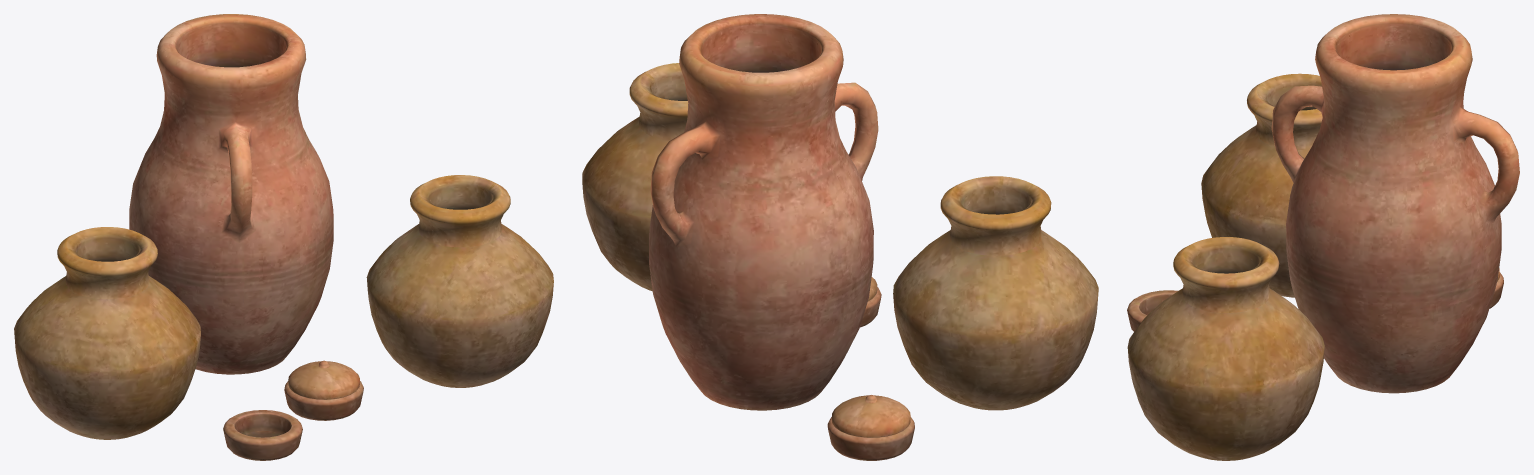
The picture shows the model from 3 angles, left to right: view 1: azimuth 30°, elevation 25°; view 2: azimuth 150°, elevation 25°; view 3: azimuth 270°, elevation 25°; orthographic projection. The views are drawn at different scales.
Visible parts, largest first — view 1: SM_Moon_Garou_Vases_Set_02v1_LOD0; view 2: SM_Moon_Garou_Vases_Set_02v1_LOD0; view 3: SM_Moon_Garou_Vases_Set_02v1_LOD0.
Boxes of the visible parts, bbox=[...] form: SM_Moon_Garou_Vases_Set_02v1_LOD0: bbox=[14, 14, 553, 460]; SM_Moon_Garou_Vases_Set_02v1_LOD0: bbox=[582, 14, 1098, 460]; SM_Moon_Garou_Vases_Set_02v1_LOD0: bbox=[1127, 14, 1519, 460].
Size of the model in its own units: 1.96 by 1.21 by 1.32.
1 material, 1 textured.
